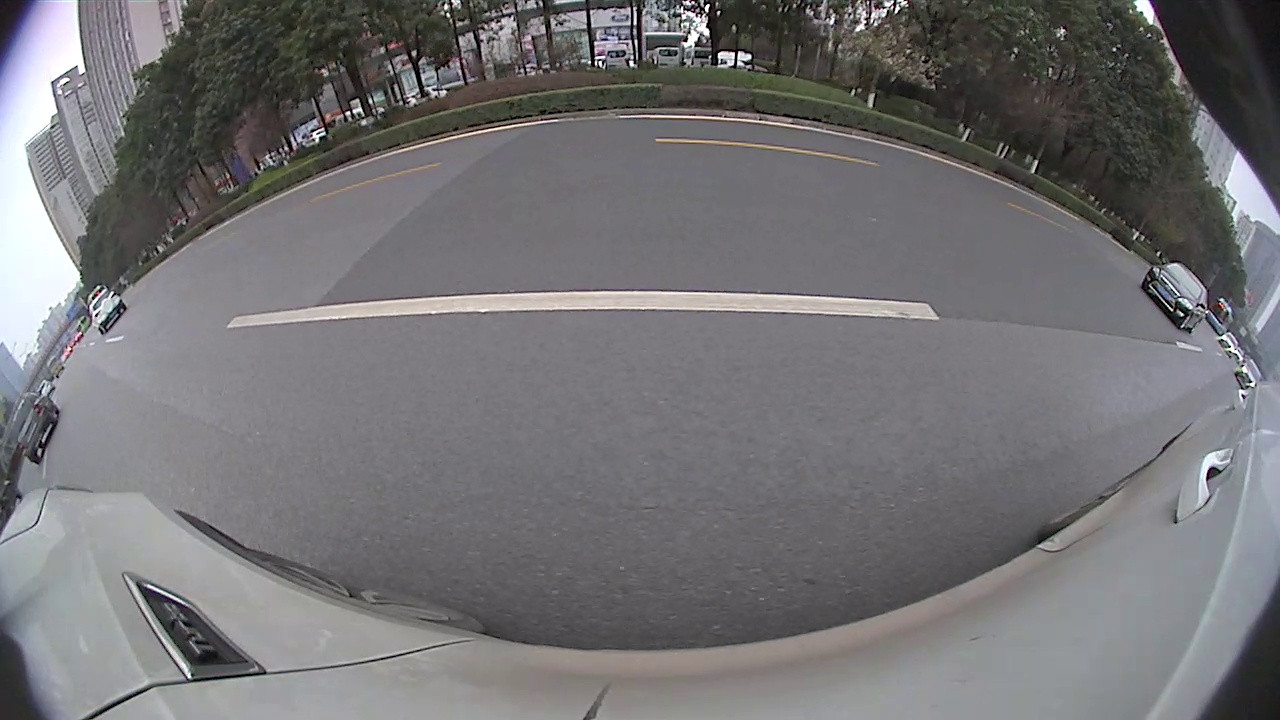bus: (768, 131, 928, 201), (680, 126, 756, 191)
car: (926, 153, 1126, 286), (758, 148, 922, 240), (591, 140, 695, 215), (539, 159, 589, 194)
front: (917, 206, 936, 231), (758, 181, 773, 208)
rear: (1028, 243, 1061, 280), (808, 190, 831, 228)
